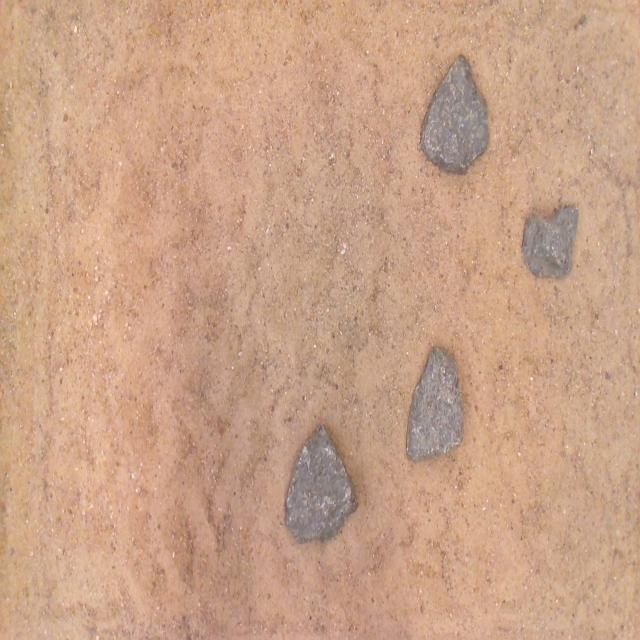rock: (286, 425, 357, 542), (420, 55, 488, 174), (407, 347, 463, 460), (522, 206, 577, 277)
